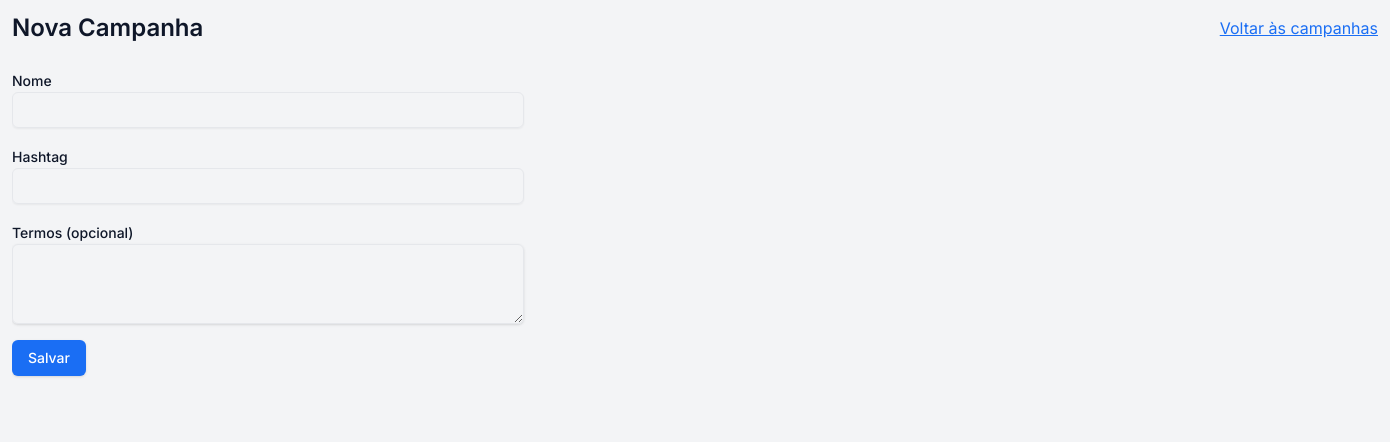
CampaignForm › blocks create submission until name and hashtag are valid
The width and height of the screenshot is (1390, 442).
Click the button "Salvar" at (49, 358), box [12,340,86,376]
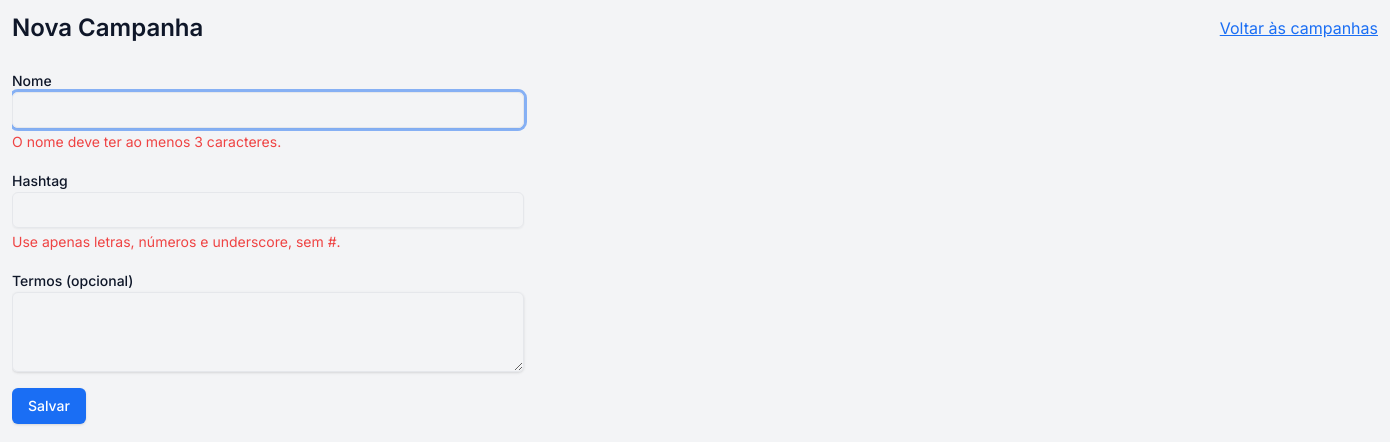
Now the text "O nome deve ter ao menos 3 caracteres." is shown, box [12,133,281,150]
